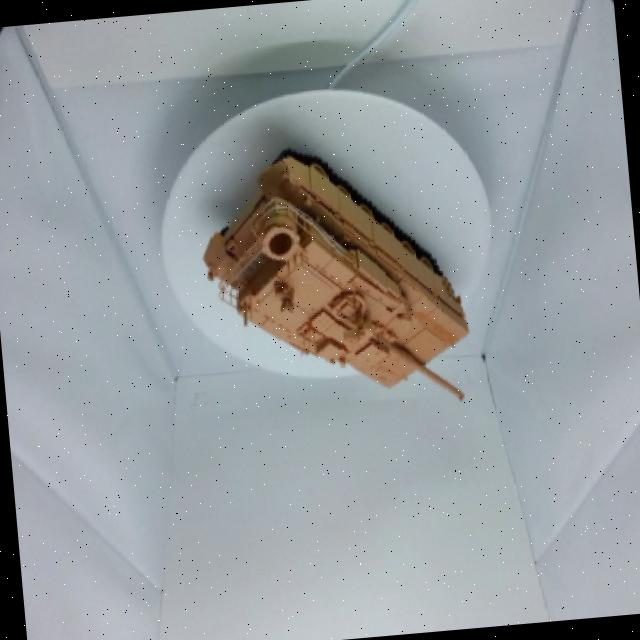korea tank: (184, 120, 507, 451)
